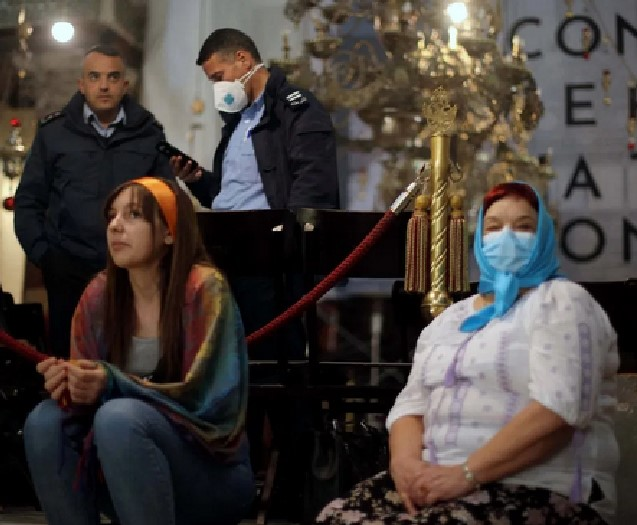face_no_mask: (106, 180, 198, 274), (78, 49, 131, 113)
face_with_mask: (477, 183, 557, 284), (200, 32, 272, 112)
